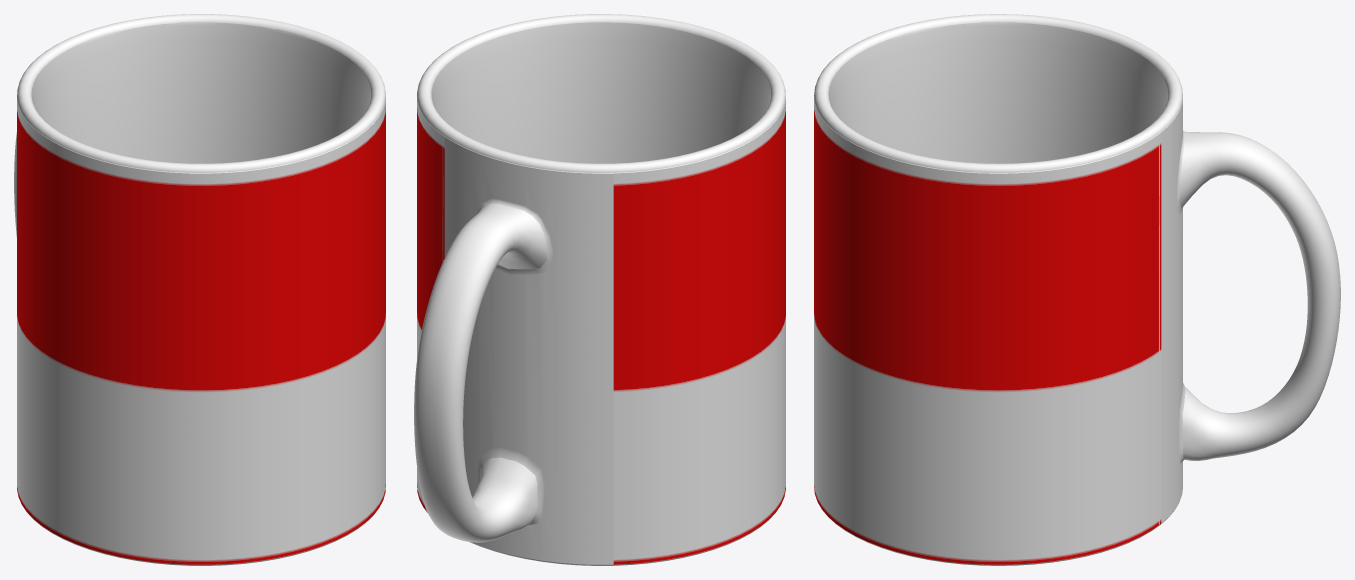
File: White-Mug.glb
3 views of the same model, side by side, from view 1: azimuth 30°, elevation 25°; view 2: azimuth 150°, elevation 25°; view 3: azimuth 270°, elevation 25° (orthographic).
Parts seen in each view (by area): view 1: Texture, 11oz-Mug.005, 11oz-Mug.003, 11oz-Mug.001; view 2: 11oz-Mug.005, Texture, 11oz-Mug.003, 11oz-Mug.001; view 3: Texture, 11oz-Mug.005, 11oz-Mug.003.
Boxes of the visible parts, left/top/right/bottom form: Texture: left=17, top=96, right=385, bottom=564; 11oz-Mug.005: left=14, top=21, right=371, bottom=237; 11oz-Mug.003: left=17, top=14, right=385, bottom=173; 11oz-Mug.001: left=22, top=501, right=382, bottom=565; 11oz-Mug.005: left=414, top=22, right=771, bottom=564; Texture: left=417, top=97, right=785, bottom=564; 11oz-Mug.003: left=417, top=14, right=785, bottom=173; 11oz-Mug.001: left=420, top=167, right=780, bottom=565; Texture: left=814, top=97, right=1161, bottom=564; 11oz-Mug.005: left=828, top=21, right=1340, bottom=522; 11oz-Mug.003: left=814, top=14, right=1182, bottom=173.
Size of the model in its own units: 0.0803 by 0.0958 by 0.1146.
Materials: 1 (1 with a texture image).
